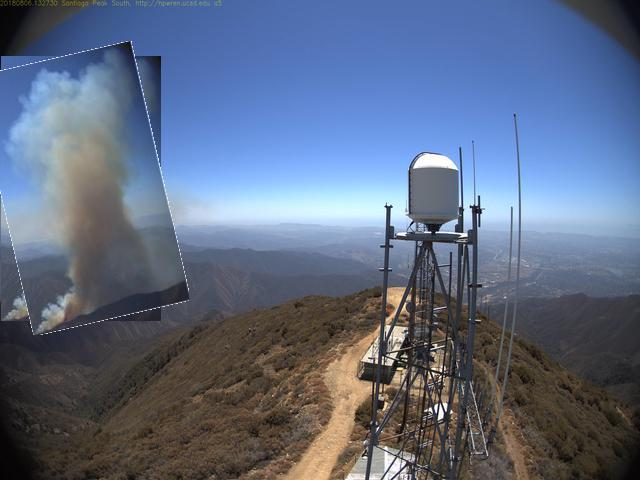smoke: (1, 49, 177, 331)
